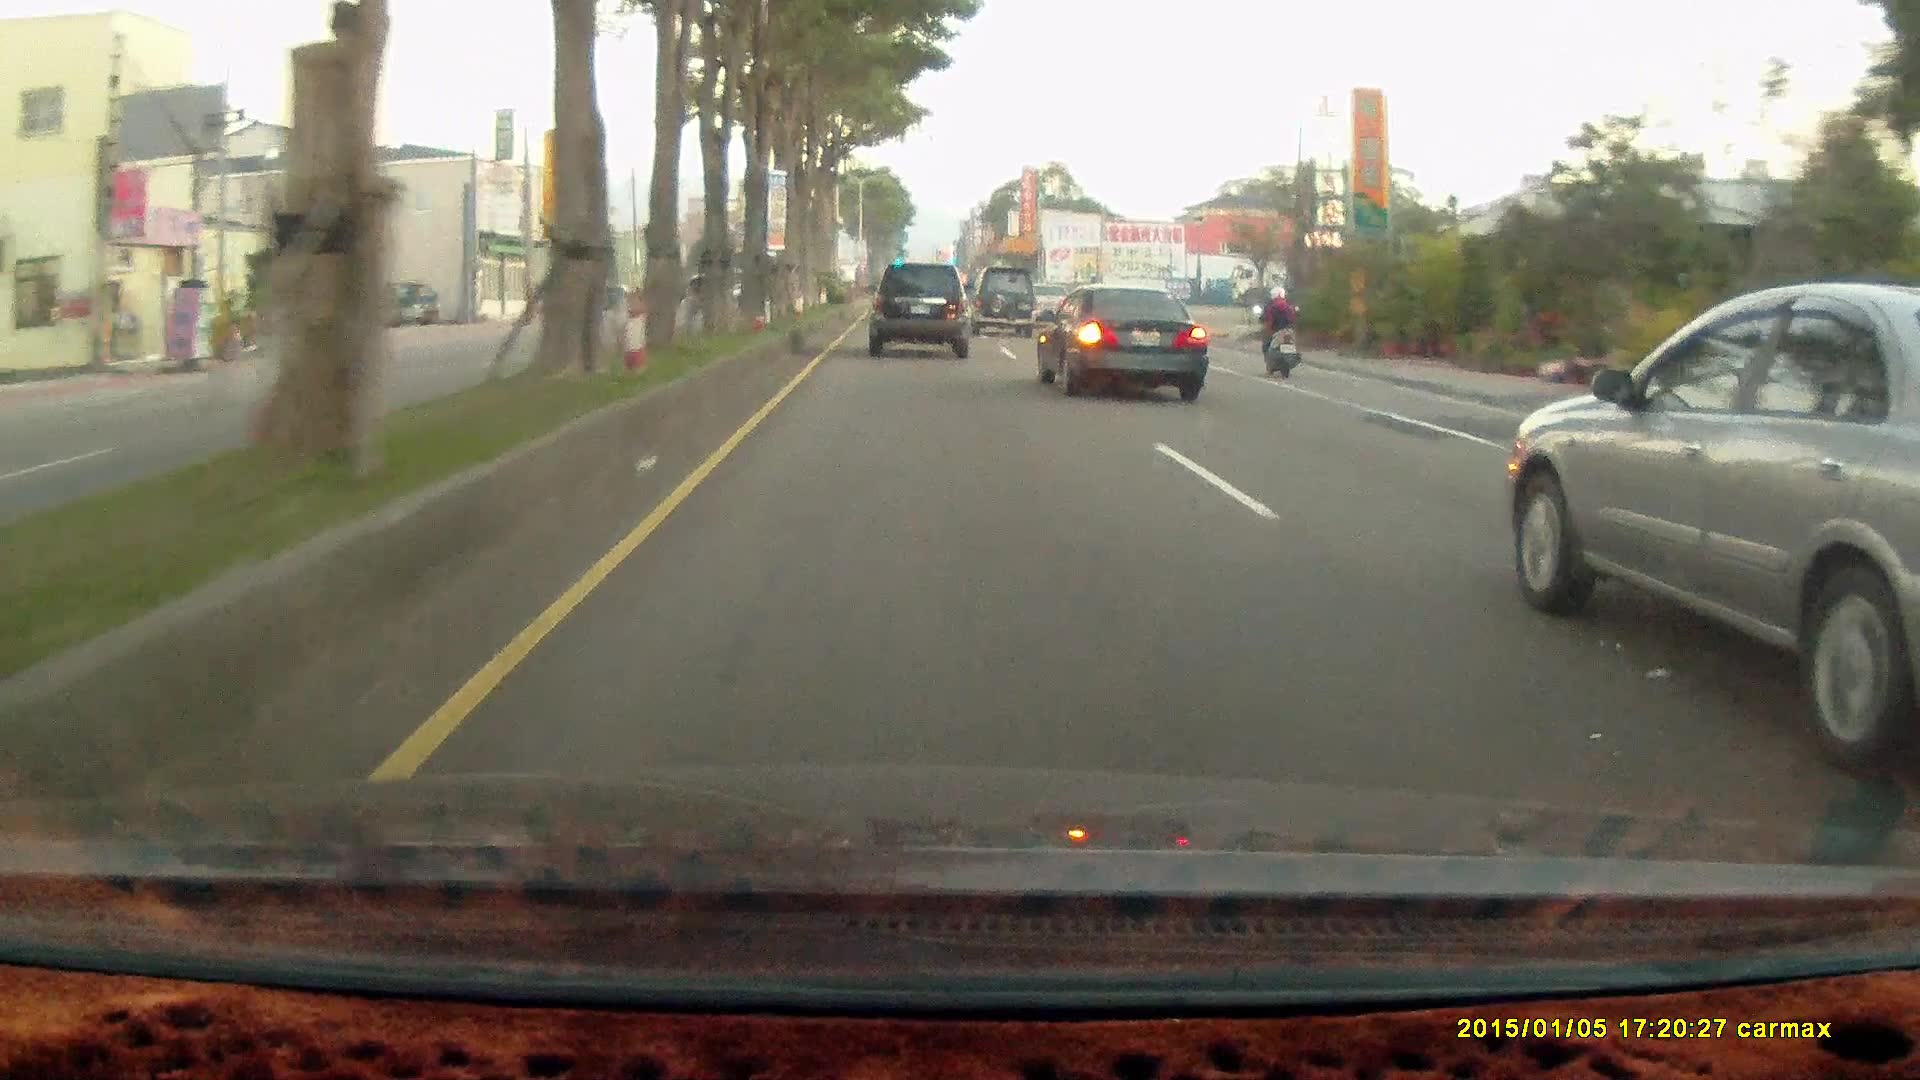rider: (1247, 271, 1312, 393), (1249, 282, 1301, 376)
vehicle: (1496, 290, 1920, 785), (1033, 288, 1212, 405), (1035, 285, 1207, 405), (1229, 262, 1436, 312), (868, 263, 972, 361), (864, 260, 969, 357), (966, 270, 1036, 345), (966, 265, 1036, 338), (348, 281, 440, 328)
